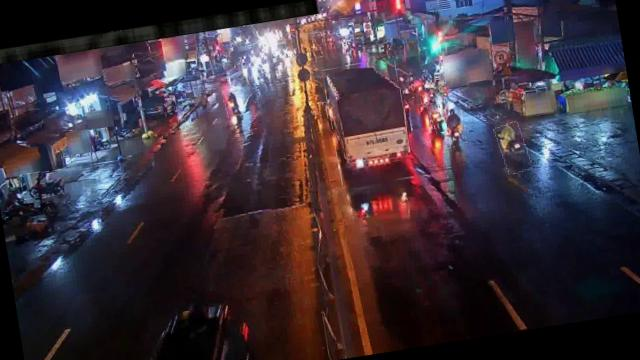Bike: (496, 120, 532, 175), (20, 167, 64, 199), (443, 105, 467, 144), (426, 96, 446, 133), (222, 86, 245, 116), (424, 86, 438, 105), (439, 82, 450, 101)
Truck: (322, 57, 414, 188)
